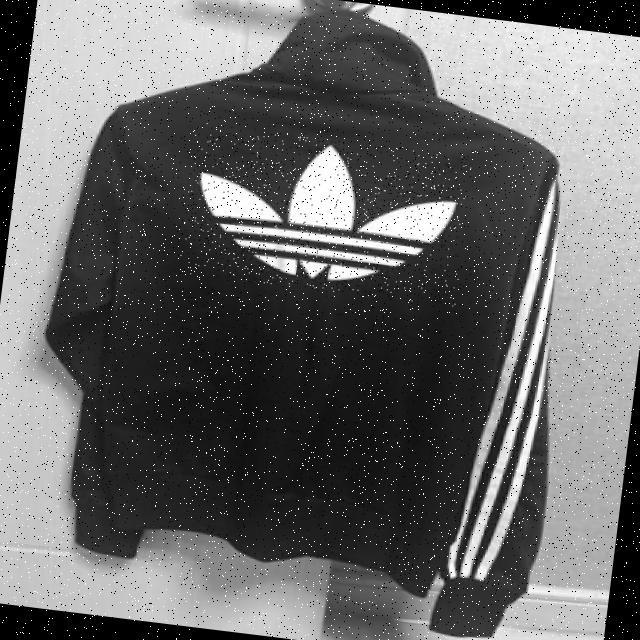Adidas: (177, 122, 474, 307)
